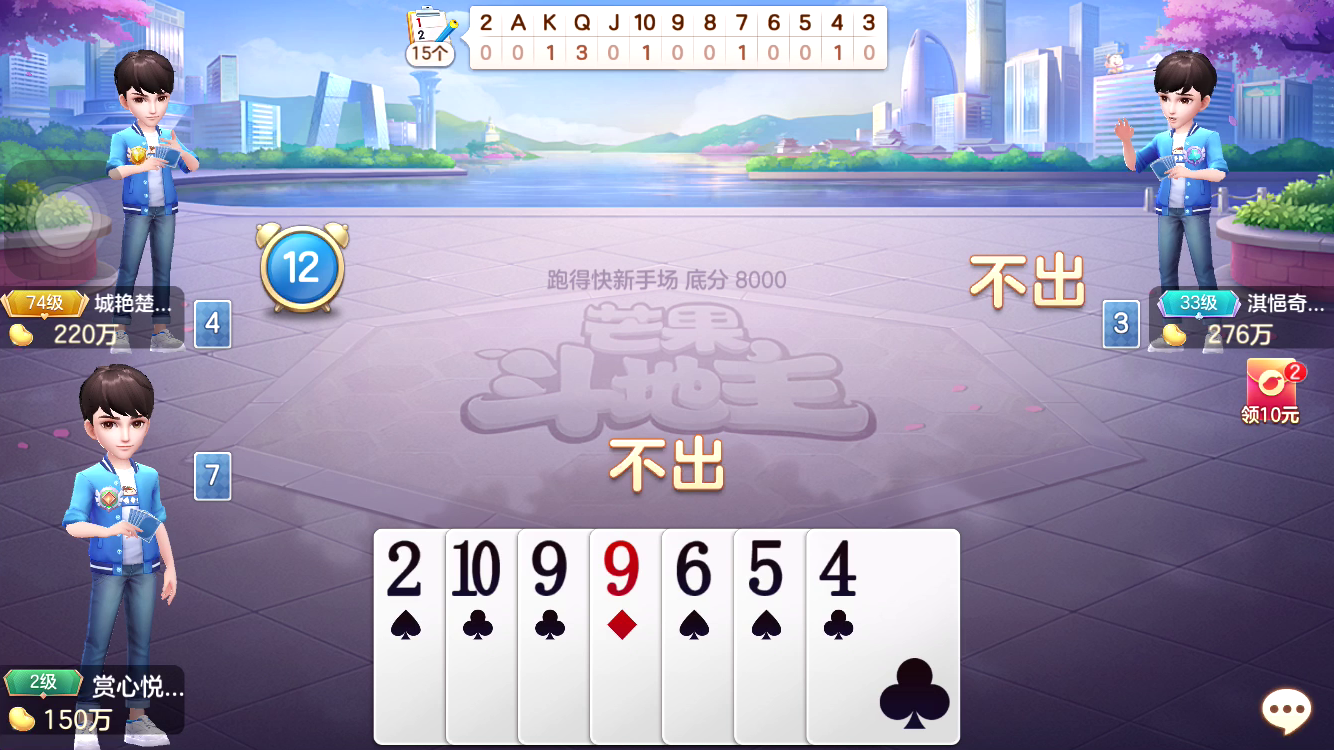five: (740, 535, 800, 603)
four: (810, 531, 872, 605)
nine: (590, 534, 653, 606), (518, 538, 583, 606)
six: (668, 540, 730, 607)
ten: (453, 539, 507, 608)
two: (379, 538, 440, 604)
